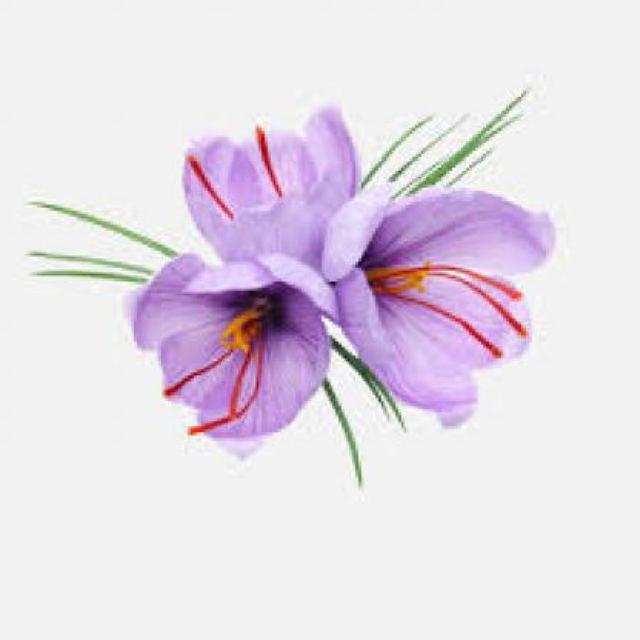Flower: (328, 182, 566, 424), (118, 252, 347, 477), (173, 124, 387, 262)
stigma: (378, 268, 532, 341), (180, 326, 270, 441), (384, 291, 510, 364), (154, 338, 243, 410), (375, 264, 529, 304), (185, 144, 236, 227), (226, 328, 264, 425), (248, 124, 284, 200)
